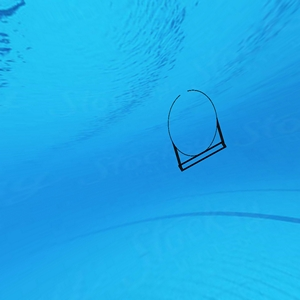circle: (165, 87, 233, 175)
